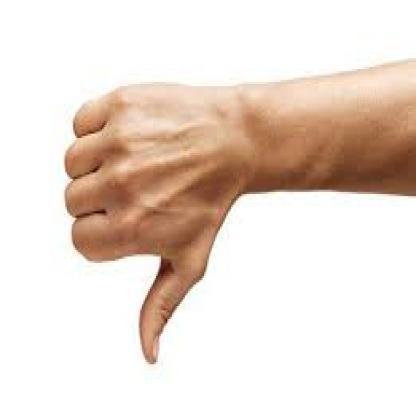thumb_down: (64, 75, 236, 365)
